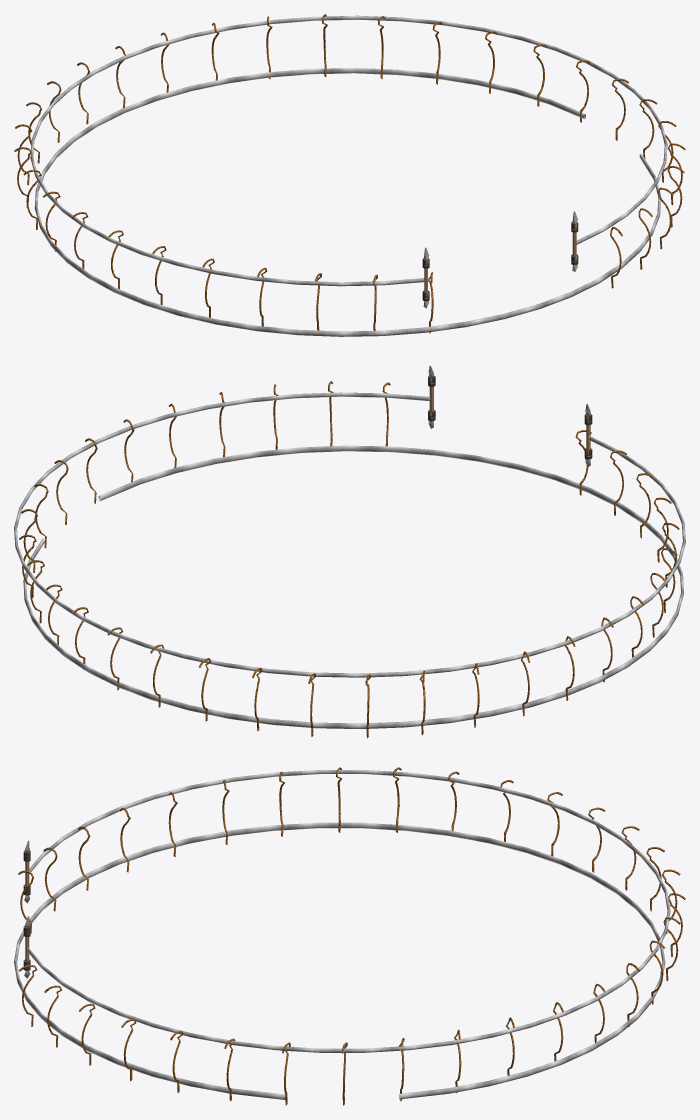
The model's file is Railing.FBX.
3 views of the same model, one above another, from view 1: azimuth 30°, elevation 25°; view 2: azimuth 150°, elevation 25°; view 3: azimuth 270°, elevation 25° (orthographic). The views are drawn at different scales.
Parts seen in each view (by area): view 1: Elevator_Platform_Railing, Elevator_Platform_Railing2; view 2: Elevator_Platform_Railing, Elevator_Platform_Railing2; view 3: Elevator_Platform_Railing, Elevator_Platform_Railing2.
Boxes of the visible parts, x1,y1,x2,y2 form: Elevator_Platform_Railing: [30, 15, 667, 336]; Elevator_Platform_Railing2: [14, 14, 685, 333]; Elevator_Platform_Railing: [14, 392, 685, 728]; Elevator_Platform_Railing2: [19, 381, 679, 738]; Elevator_Platform_Railing: [14, 770, 670, 1099]; Elevator_Platform_Railing2: [18, 767, 685, 1105].
Bounding box in the file's own units: 403 × 60.58 × 405.
